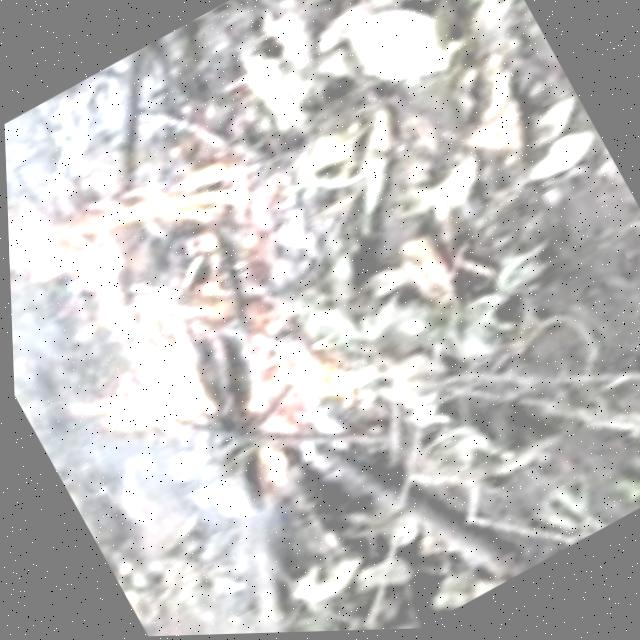Fire: (4, 121, 362, 534)
